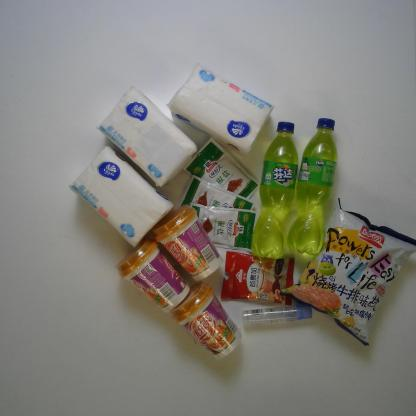Drink: (286, 116, 339, 257), (249, 119, 299, 261)
Instant Drink: (114, 236, 191, 314), (168, 281, 243, 361), (150, 204, 224, 282), (218, 249, 304, 306)
Puffed Food: (279, 195, 416, 346)
Seasoner: (183, 137, 261, 217), (176, 174, 255, 230), (188, 201, 257, 254)
Stationery: (239, 302, 313, 328)
Tissue: (68, 145, 175, 249), (166, 60, 275, 158), (96, 85, 199, 187)
